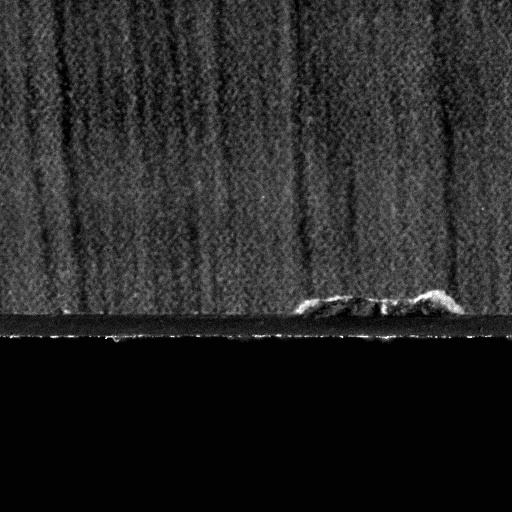bengque: (289, 289, 466, 319)
